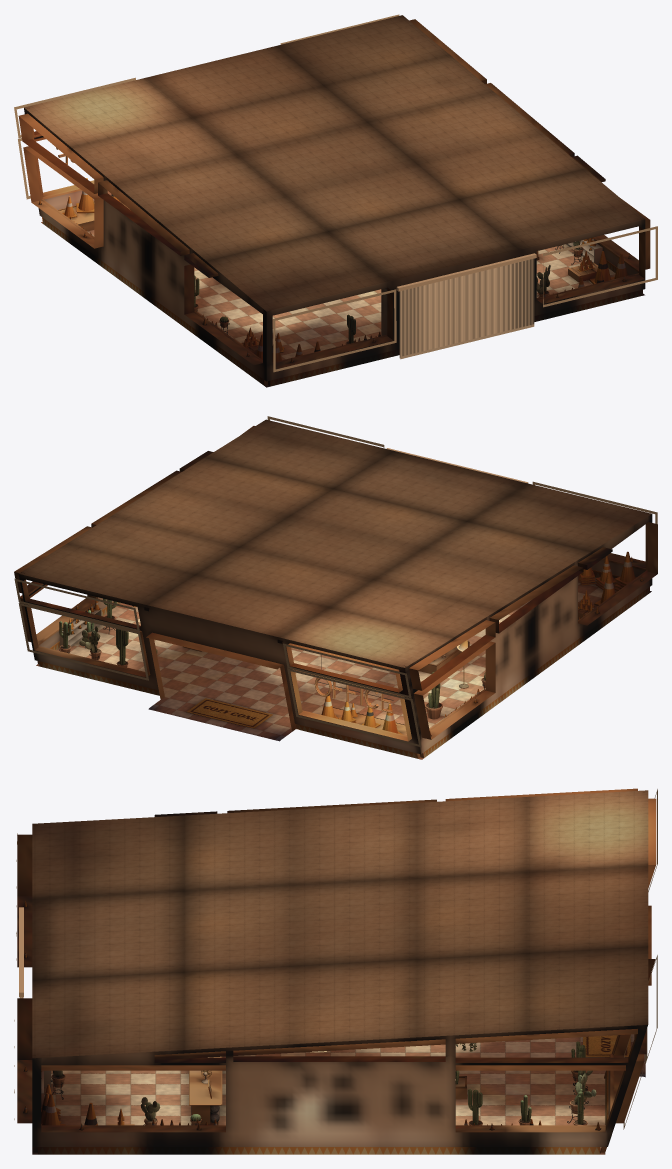
File: cozy_cone_recepcao_noite.glb
3 renders of one model, top to bottom at view 1: azimuth 30°, elevation 25°; view 2: azimuth 150°, elevation 25°; view 3: azimuth 270°, elevation 25°, orthographic. The views are drawn at different scales.
Visible parts, largest first — view 1: recepcao_teto_1, recepcao_cores_1, recepcao_piso_1, recepcao_cores_3, recepcao_cores_2; view 2: recepcao_teto_1, recepcao_cores_1, recepcao_piso_1, recepcao_cores_3, recepcao_cores_2, recepcao_quadros_1; view 3: recepcao_teto_1, recepcao_cores_1, recepcao_piso_1, recepcao_cores_2, recepcao_cores_3, recepcao_quadros_1.
Part boxes in pixels (bbox=[...]): recepcao_teto_1: bbox=[24, 15, 644, 311]; recepcao_cores_1: bbox=[14, 14, 657, 386]; recepcao_piso_1: bbox=[41, 222, 644, 387]; recepcao_cores_3: bbox=[38, 147, 631, 362]; recepcao_cores_2: bbox=[194, 240, 583, 344]; recepcao_teto_1: bbox=[19, 419, 651, 667]; recepcao_cores_1: bbox=[14, 416, 657, 758]; recepcao_piso_1: bbox=[36, 575, 651, 759]; recepcao_cores_3: bbox=[59, 551, 643, 736]; recepcao_cores_2: bbox=[59, 598, 485, 719]; recepcao_quadros_1: bbox=[187, 698, 272, 728]; recepcao_teto_1: bbox=[32, 790, 648, 1058]; recepcao_cores_1: bbox=[14, 788, 657, 1154]; recepcao_piso_1: bbox=[32, 1034, 645, 1154]; recepcao_cores_2: bbox=[50, 1041, 596, 1125]; recepcao_cores_3: bbox=[23, 901, 601, 1133]; recepcao_quadros_1: bbox=[209, 1035, 630, 1094].
Size of the model in its own units: 23.26 by 5.77 by 25.78.
4 materials, 3 textured.
